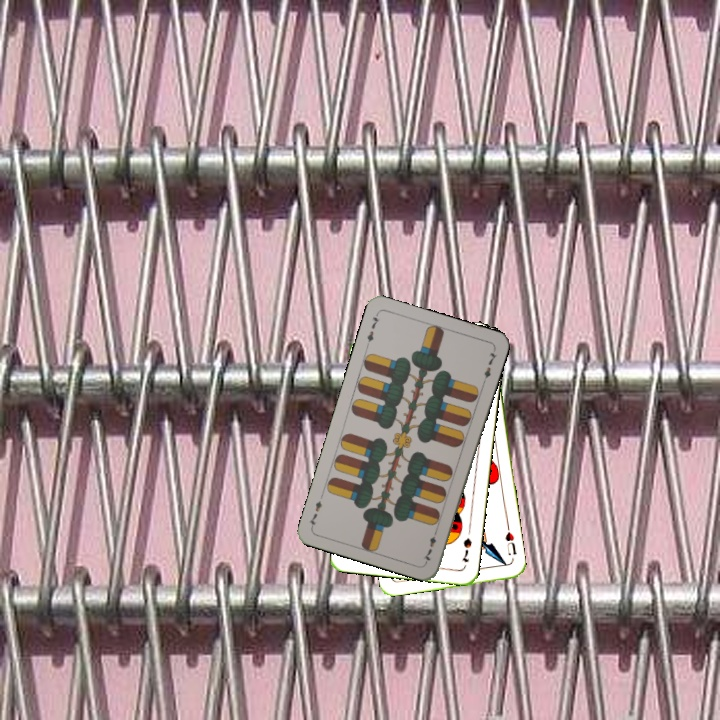E7: (419, 525, 440, 565), (362, 310, 382, 349)
HU: (501, 528, 519, 558)
S7: (458, 534, 474, 565)
